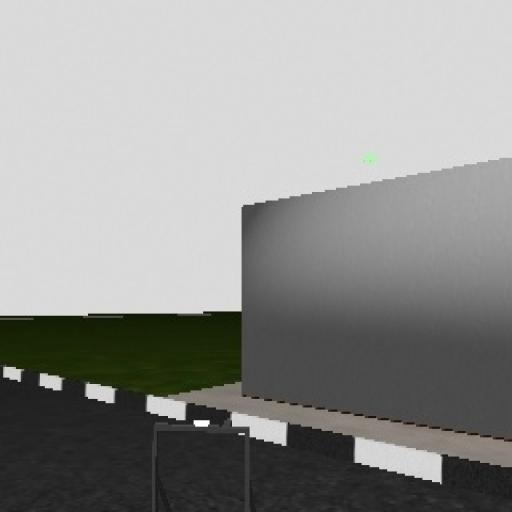huskya200: (123, 407, 272, 512)
